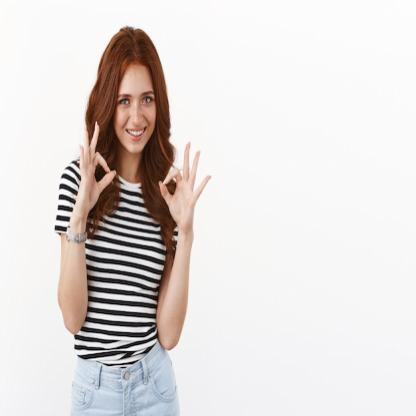ok: (158, 139, 213, 233), (74, 121, 118, 218)
